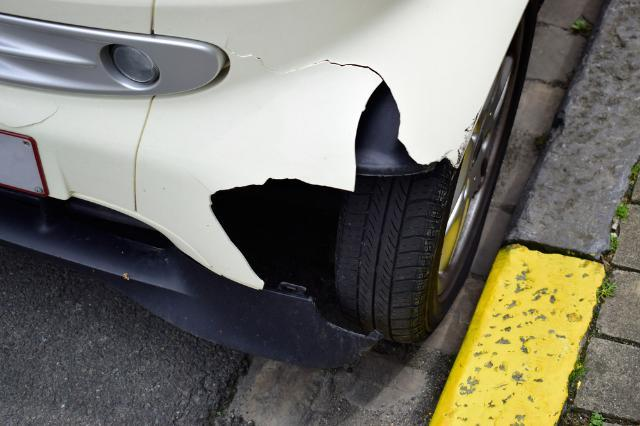crack: (226, 34, 384, 80), (0, 102, 61, 128)
no part: (214, 82, 457, 338)
